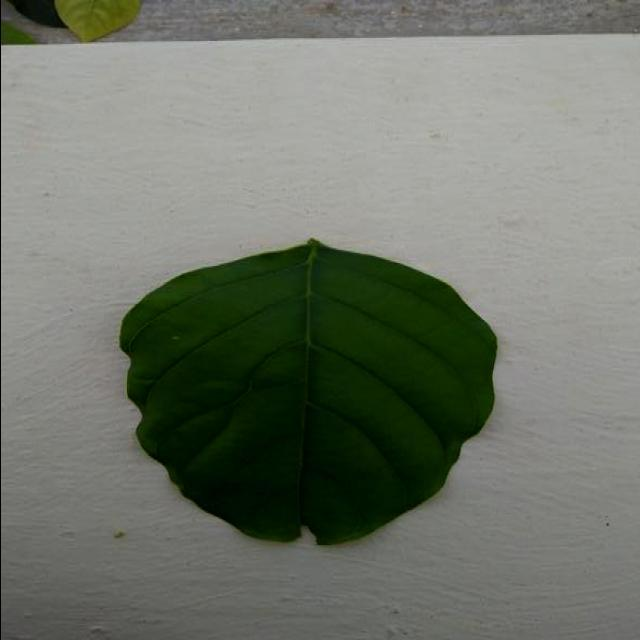leaf: (118, 236, 498, 546)
